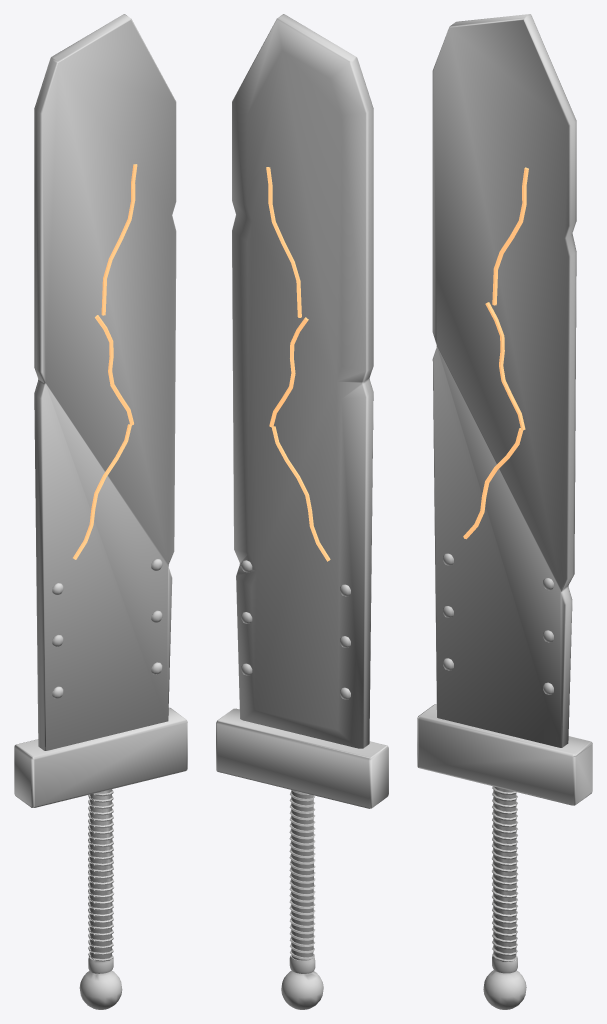
File: colossal_slab_ember.glb
3 views of the same model, side by side, from view 1: azimuth 30°, elevation 25°; view 2: azimuth 150°, elevation 25°; view 3: azimuth 330°, elevation 25° (orthographic).
Parts seen in each view (by area): view 1: colossal_slab_ember; view 2: colossal_slab_ember; view 3: colossal_slab_ember.
Part boxes in pixels (box(x1,y1,x2,y2)): colossal_slab_ember: box(14, 14, 187, 1009); colossal_slab_ember: box(216, 14, 388, 1009); colossal_slab_ember: box(417, 14, 592, 1009).
Bounding box in the file's own units: 0.38 × 2.29 × 0.09.
